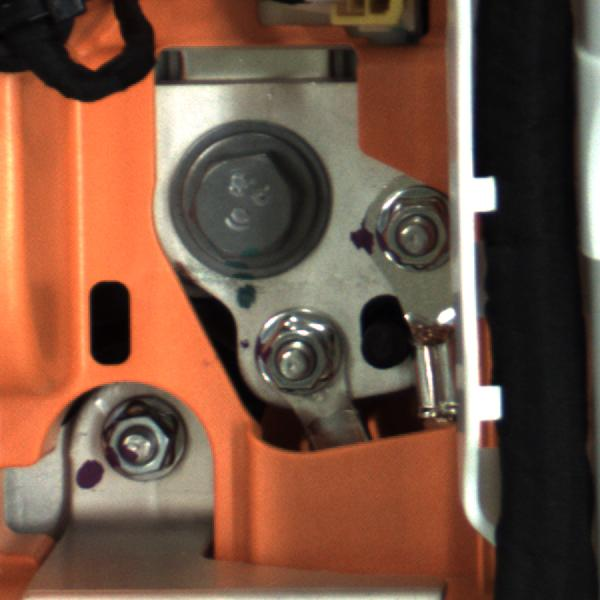nut_b: (173, 131, 327, 268)
screw_s: (247, 308, 360, 401), (366, 191, 450, 276), (98, 414, 187, 487)
